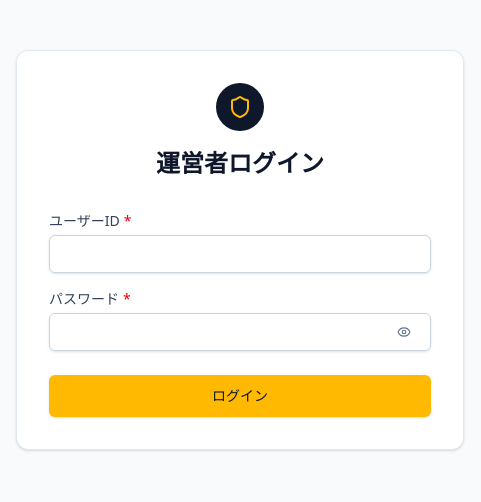
Test: AdminLogin › shows error and removes auth token on unauthenticated path (login failure)
Expected: the text "IDまたはパスワードが正しくありません。" is not shown
Type "admin" into the field labelled "ユーザーID*" at {"x": 240, "y": 254}, box [49,235,431,273]
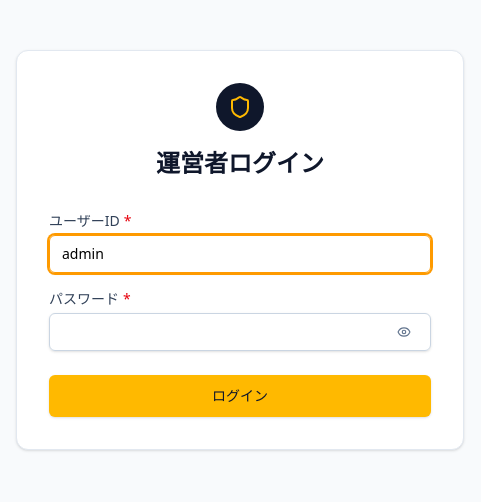
Type "wrongpassword" into the password field labelled "パスワード*" at {"x": 240, "y": 332}, box [49,313,431,351]
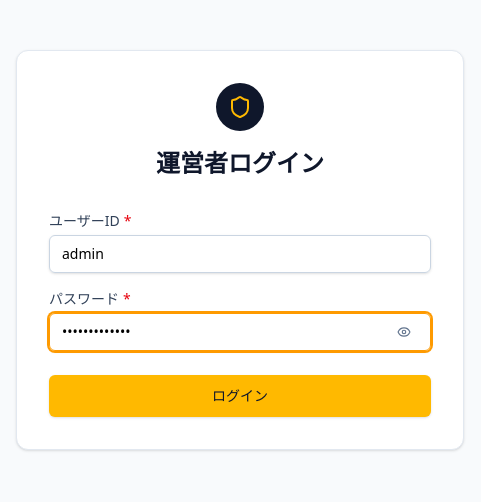
Submit form
Click the button "ログイン" at {"x": 240, "y": 396}, box [49,375,431,417]
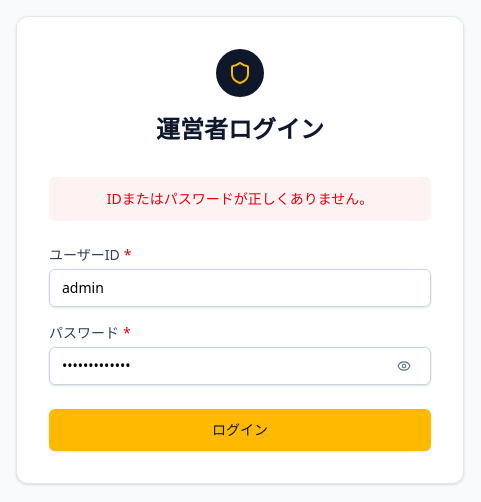
Expected: the button "ログイン" is enabled, [49,409,431,451]
Expected: the text "IDまたはパスワードが正しくありません。" is shown, [49,177,431,221]
